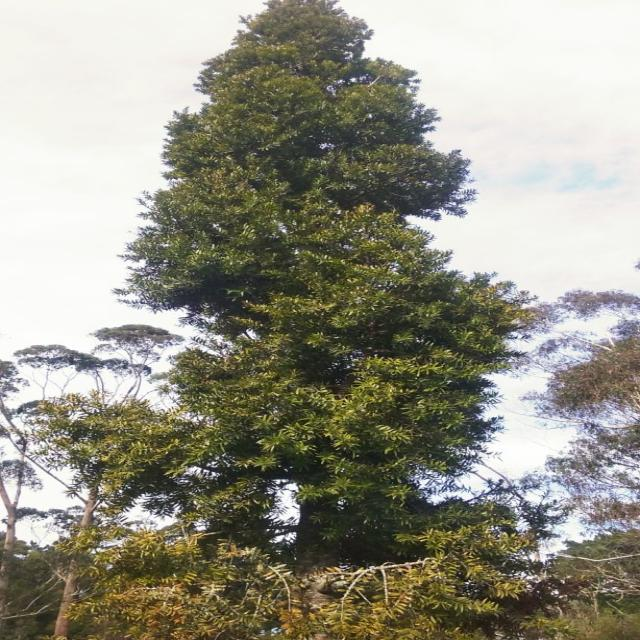Kauri: (116, 0, 526, 555)
